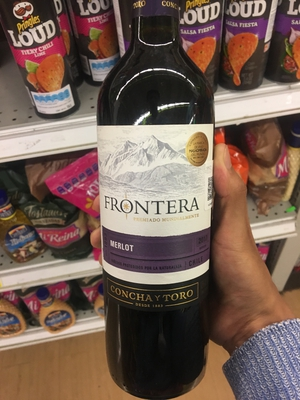frontera merlot: (92, 11, 240, 381)
